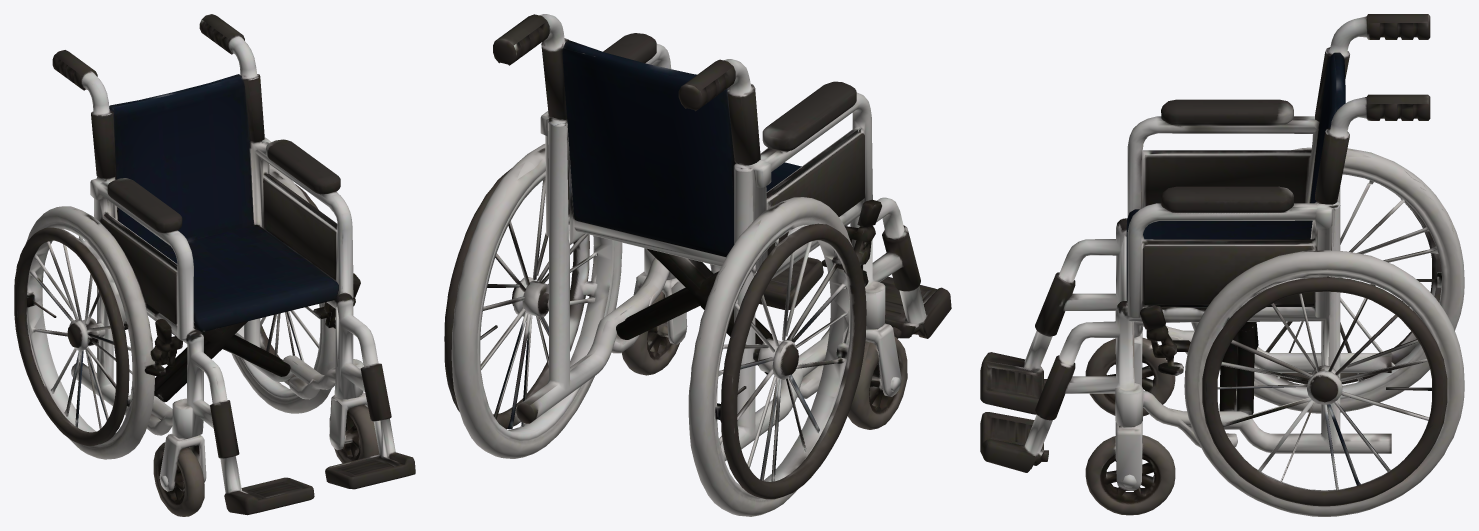
File: a_wheelchair_63e61bed_v4.glb
The picture shows the model from 3 angles, left to right: view 1: azimuth 30°, elevation 25°; view 2: azimuth 150°, elevation 25°; view 3: azimuth 270°, elevation 25°; orthographic projection. The views are drawn at different scales.
Visible parts, largest first — view 1: material; view 2: material; view 3: material.
Part boxes in pixels (x1,y1,x2,y2): material: (14, 14, 415, 516); material: (444, 14, 951, 516); material: (980, 14, 1464, 516).
Size of the model in its own units: 1.17 by 1.77 by 1.9.
1 material, 1 textured.
